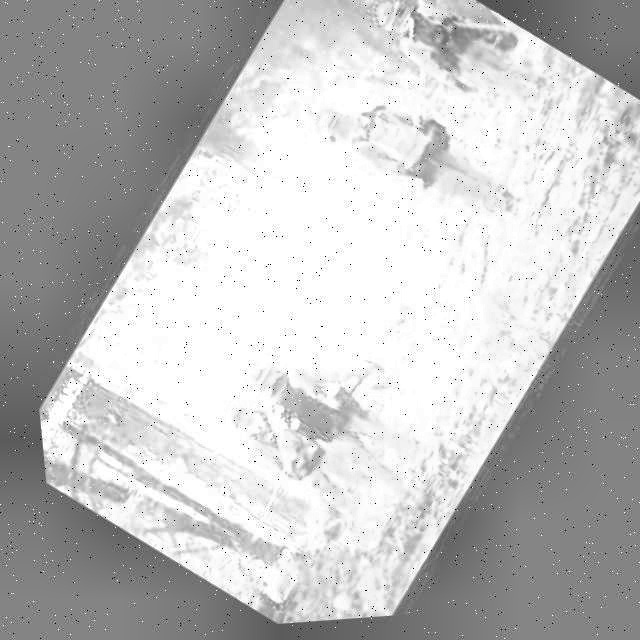Fire: (300, 260, 446, 415), (315, 474, 334, 490)
